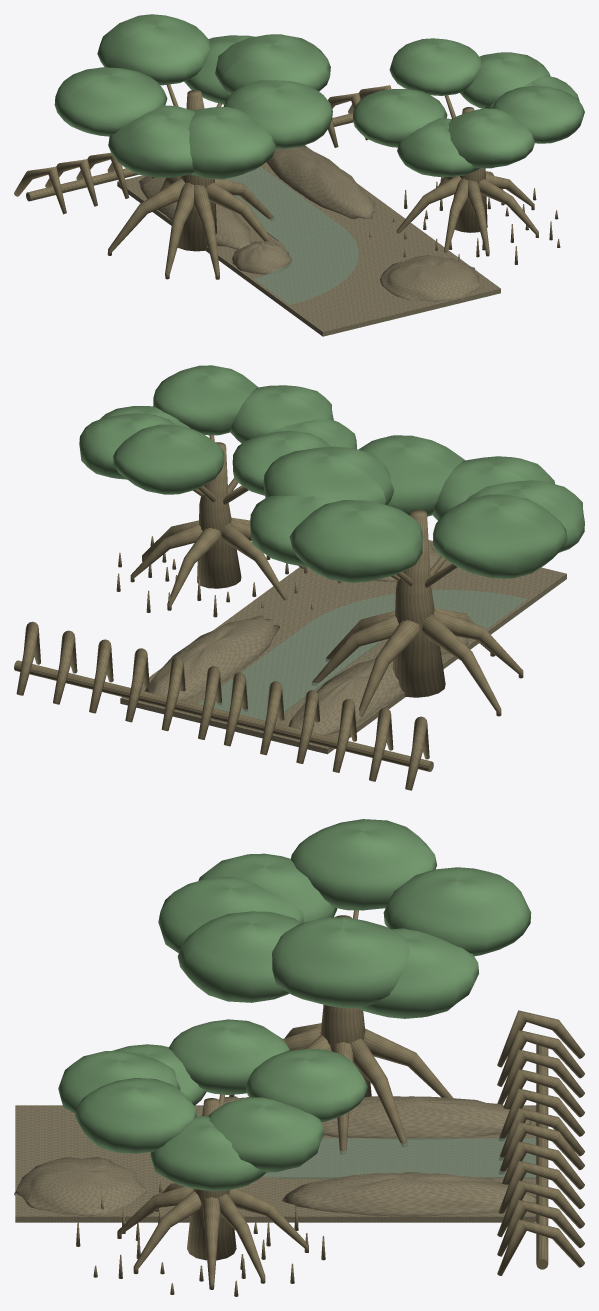
The model's file is mangrove_channel_swamp_and_mangrove_22671.glb.
3 renders of one model, top to bottom at view 1: azimuth 30°, elevation 25°; view 2: azimuth 150°, elevation 25°; view 3: azimuth 270°, elevation 25°, orthographic. The views are drawn at different scales.
Visible parts, largest first — view 1: 001-channel-bend/0, 004-red-mangrove/9, 004-red-mangrove/15, 000-channel-straight/0, 004-red-mangrove/21, 004-red-mangrove/3, 004-red-mangrove/12, 001-channel-bend/1, 004-red-mangrove/6, 000-channel-straight/3, 005-black-mangrove/9, 005-black-mangrove/21 (+26 smaller); view 2: 001-channel-bend/0, 000-channel-straight/0, 004-red-mangrove/15, 004-red-mangrove/9, 005-black-mangrove/9, 004-red-mangrove/3, 000-channel-straight/1, 005-black-mangrove/12, 000-channel-straight/3, 004-red-mangrove/0, 004-red-mangrove/12, 001-channel-bend/1 (+31 smaller); view 3: 000-channel-straight/0, 004-red-mangrove/3, 004-red-mangrove/9, 004-red-mangrove/15, 001-channel-bend/0, 000-channel-straight/3, 004-red-mangrove/12, 000-channel-straight/1, 005-black-mangrove/12, 005-black-mangrove/9, 000-channel-straight/2, 005-black-mangrove/18 (+32 smaller).
Part boxes in pixels (bbox=[...]): 001-channel-bend/0: bbox=[220, 213, 500, 336]; 004-red-mangrove/9: bbox=[97, 14, 210, 85]; 004-red-mangrove/15: bbox=[54, 67, 167, 136]; 000-channel-straight/0: bbox=[117, 145, 397, 260]; 004-red-mangrove/21: bbox=[188, 107, 275, 179]; 004-red-mangrove/3: bbox=[215, 34, 330, 94]; 004-red-mangrove/12: bbox=[223, 80, 332, 148]; 001-channel-bend/1: bbox=[254, 225, 358, 304]; 004-red-mangrove/6: bbox=[108, 105, 195, 177]; 000-channel-straight/3: bbox=[266, 146, 375, 219]; 005-black-mangrove/9: bbox=[389, 38, 481, 95]; 005-black-mangrove/21: bbox=[448, 108, 534, 168]; 001-channel-bend/0: bbox=[240, 540, 566, 666]; 000-channel-straight/0: bbox=[120, 611, 447, 754]; 004-red-mangrove/15: bbox=[433, 494, 567, 578]; 004-red-mangrove/9: bbox=[289, 500, 422, 582]; 005-black-mangrove/9: bbox=[113, 424, 224, 494]; 004-red-mangrove/3: bbox=[263, 446, 394, 504]; 000-channel-straight/1: bbox=[196, 624, 379, 728]; 005-black-mangrove/12: bbox=[153, 365, 258, 435]; 000-channel-straight/3: bbox=[144, 615, 279, 700]; 004-red-mangrove/0: bbox=[392, 509, 445, 697]; 004-red-mangrove/12: bbox=[358, 435, 465, 516]; 001-channel-bend/1: bbox=[308, 590, 527, 641]; 000-channel-straight/0: bbox=[279, 1105, 536, 1222]; 004-red-mangrove/3: bbox=[272, 917, 409, 1008]; 004-red-mangrove/9: bbox=[383, 867, 531, 956]; 004-red-mangrove/15: bbox=[291, 819, 436, 910]; 001-channel-bend/0: bbox=[15, 1105, 278, 1222]; 000-channel-straight/3: bbox=[281, 1172, 536, 1218]; 004-red-mangrove/12: bbox=[177, 911, 301, 1002]; 000-channel-straight/1: bbox=[279, 1138, 536, 1178]; 005-black-mangrove/12: bbox=[75, 1078, 196, 1153]; 005-black-mangrove/9: bbox=[245, 1049, 367, 1122]; 000-channel-straight/2: bbox=[321, 1096, 531, 1139]; 005-black-mangrove/18: bbox=[208, 1097, 324, 1172].
Size of the model in its own units: 10.22 by 3.94 by 8.67.
Materials: 4 (3 with a texture image).
